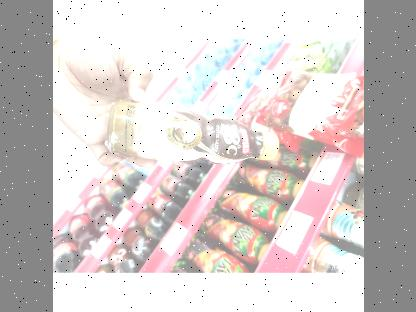Plastic Bottle: (96, 91, 290, 181)
